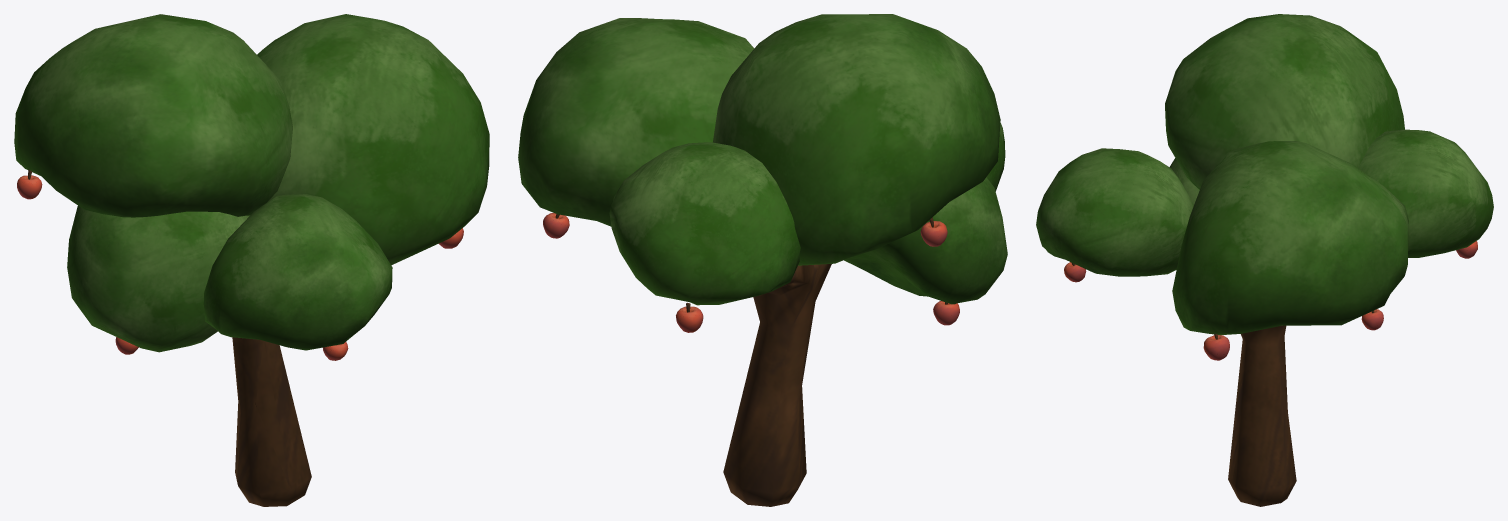
File: apple.glb
3 views of the same model, side by side, from view 1: azimuth 30°, elevation 25°; view 2: azimuth 150°, elevation 25°; view 3: azimuth 270°, elevation 25° (orthographic). The views are drawn at different scales.
Visible parts, largest first — view 1: Apple_Tree; view 2: Apple_Tree; view 3: Apple_Tree.
Part boxes in pixels (x1,y1,x2,y2): Apple_Tree: [14, 14, 489, 506]; Apple_Tree: [518, 14, 1007, 506]; Apple_Tree: [1036, 14, 1493, 506].
Size of the model in its own units: 2.75 by 3.08 by 2.96.
Materials: 1 (1 with a texture image).
